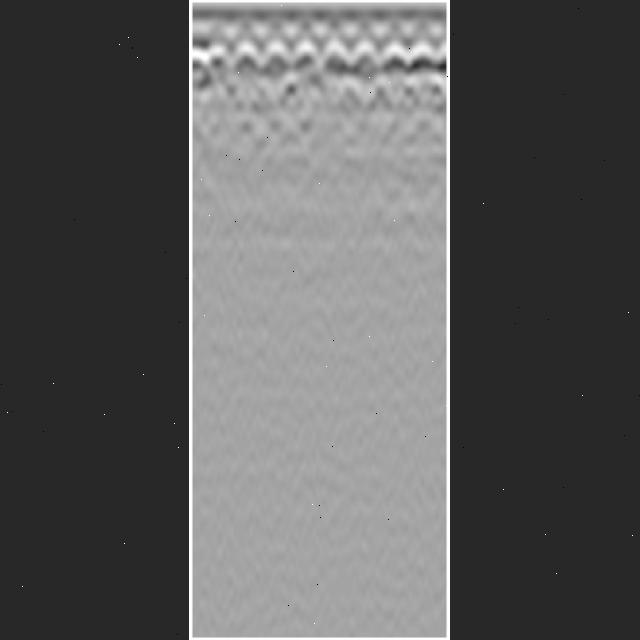hyperbola: (381, 30, 419, 80), (349, 30, 386, 80), (230, 30, 270, 76), (408, 37, 446, 85), (320, 27, 358, 75), (207, 43, 235, 85), (264, 36, 294, 74), (193, 41, 217, 88), (300, 34, 328, 74)
